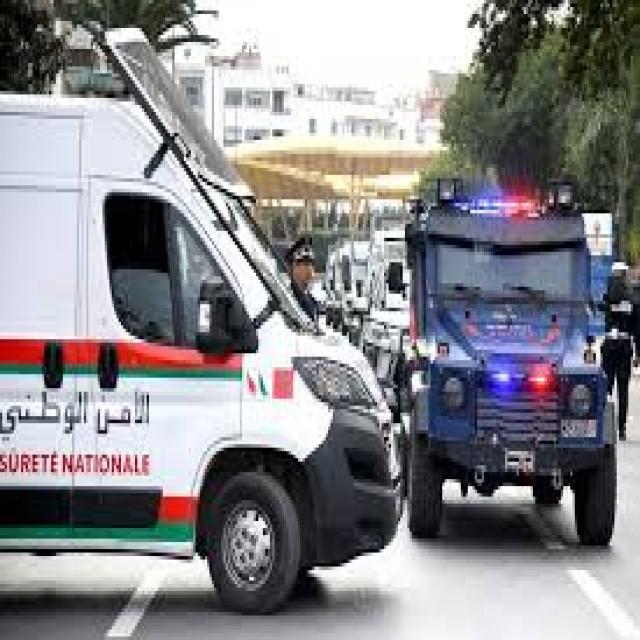Police car: (0, 29, 406, 624)
